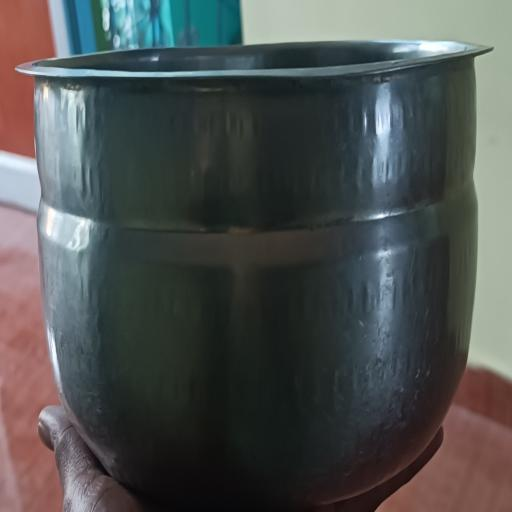vessel: (17, 40, 490, 509)
